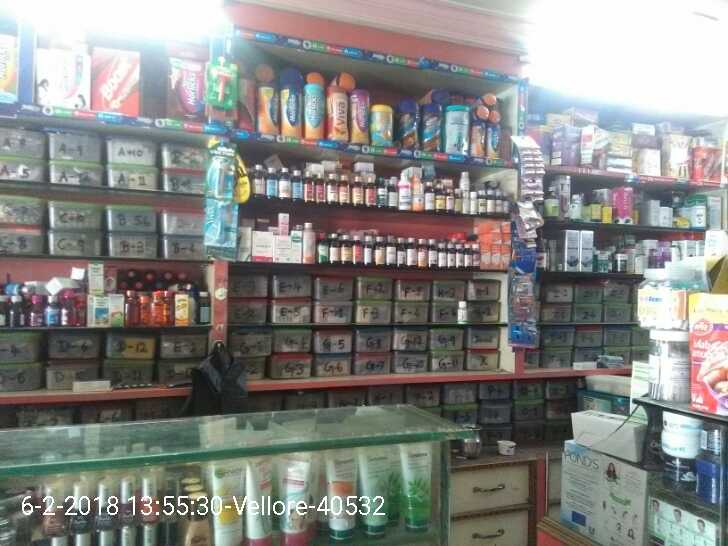beauty: (206, 198, 238, 249), (207, 138, 233, 200)
